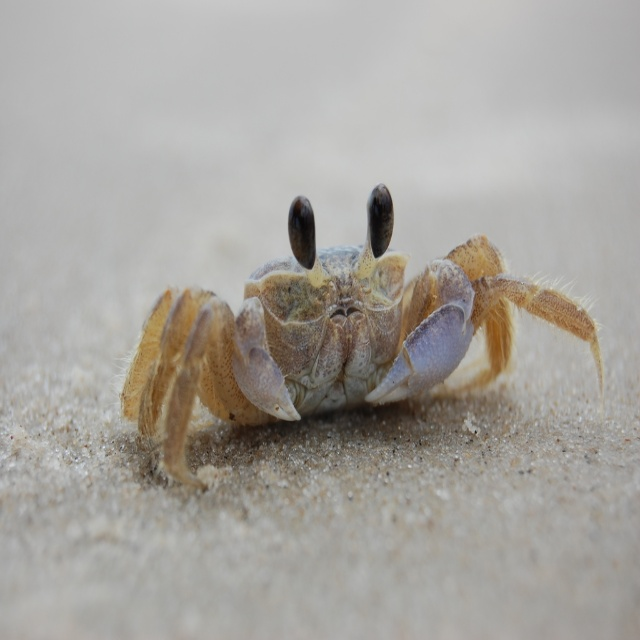Crab: (114, 179, 608, 488)
